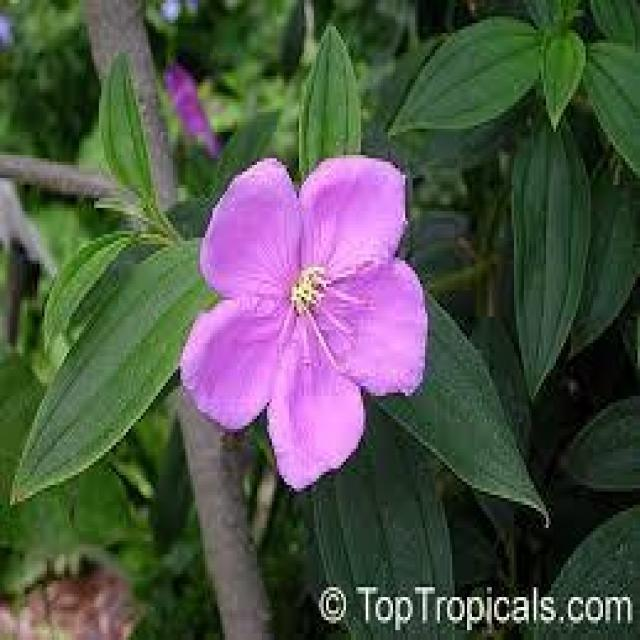organic waste: (187, 154, 441, 496)
